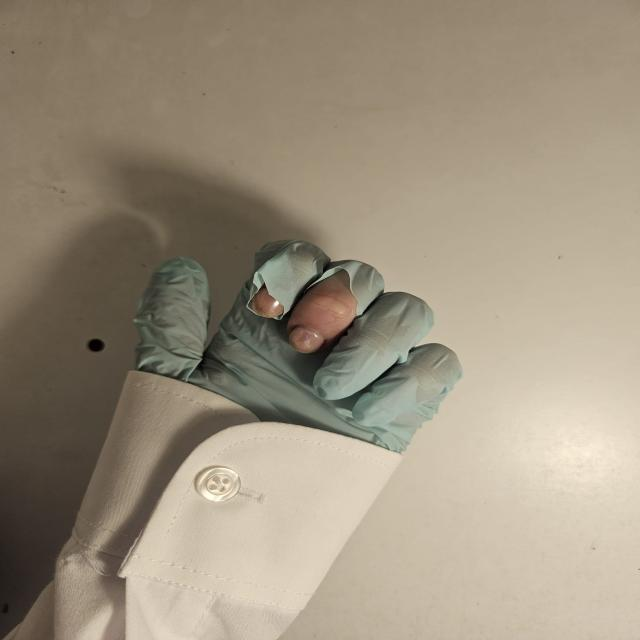gloves_damaged: (128, 238, 469, 454)
